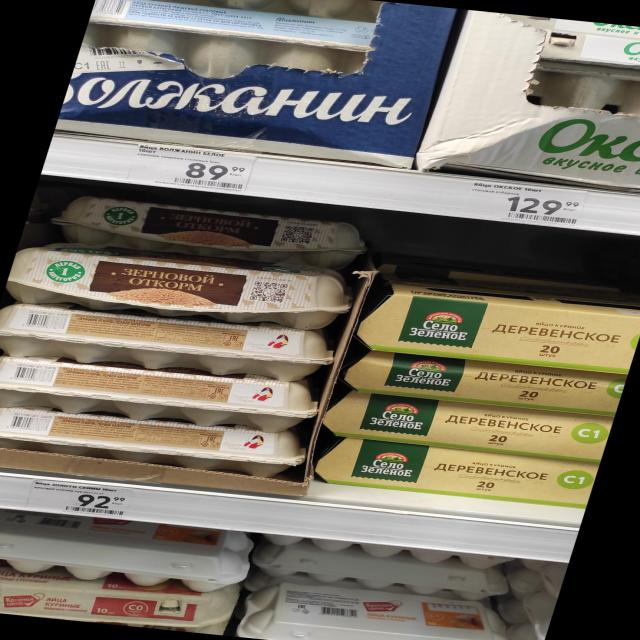organic waste: (1, 241, 362, 334), (39, 190, 373, 273), (236, 577, 537, 640), (0, 561, 242, 636), (521, 30, 639, 125), (0, 599, 227, 635)
